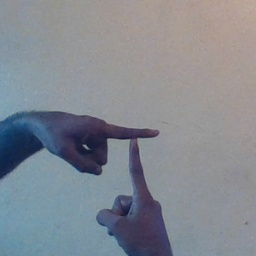T: (78, 101, 176, 213)
